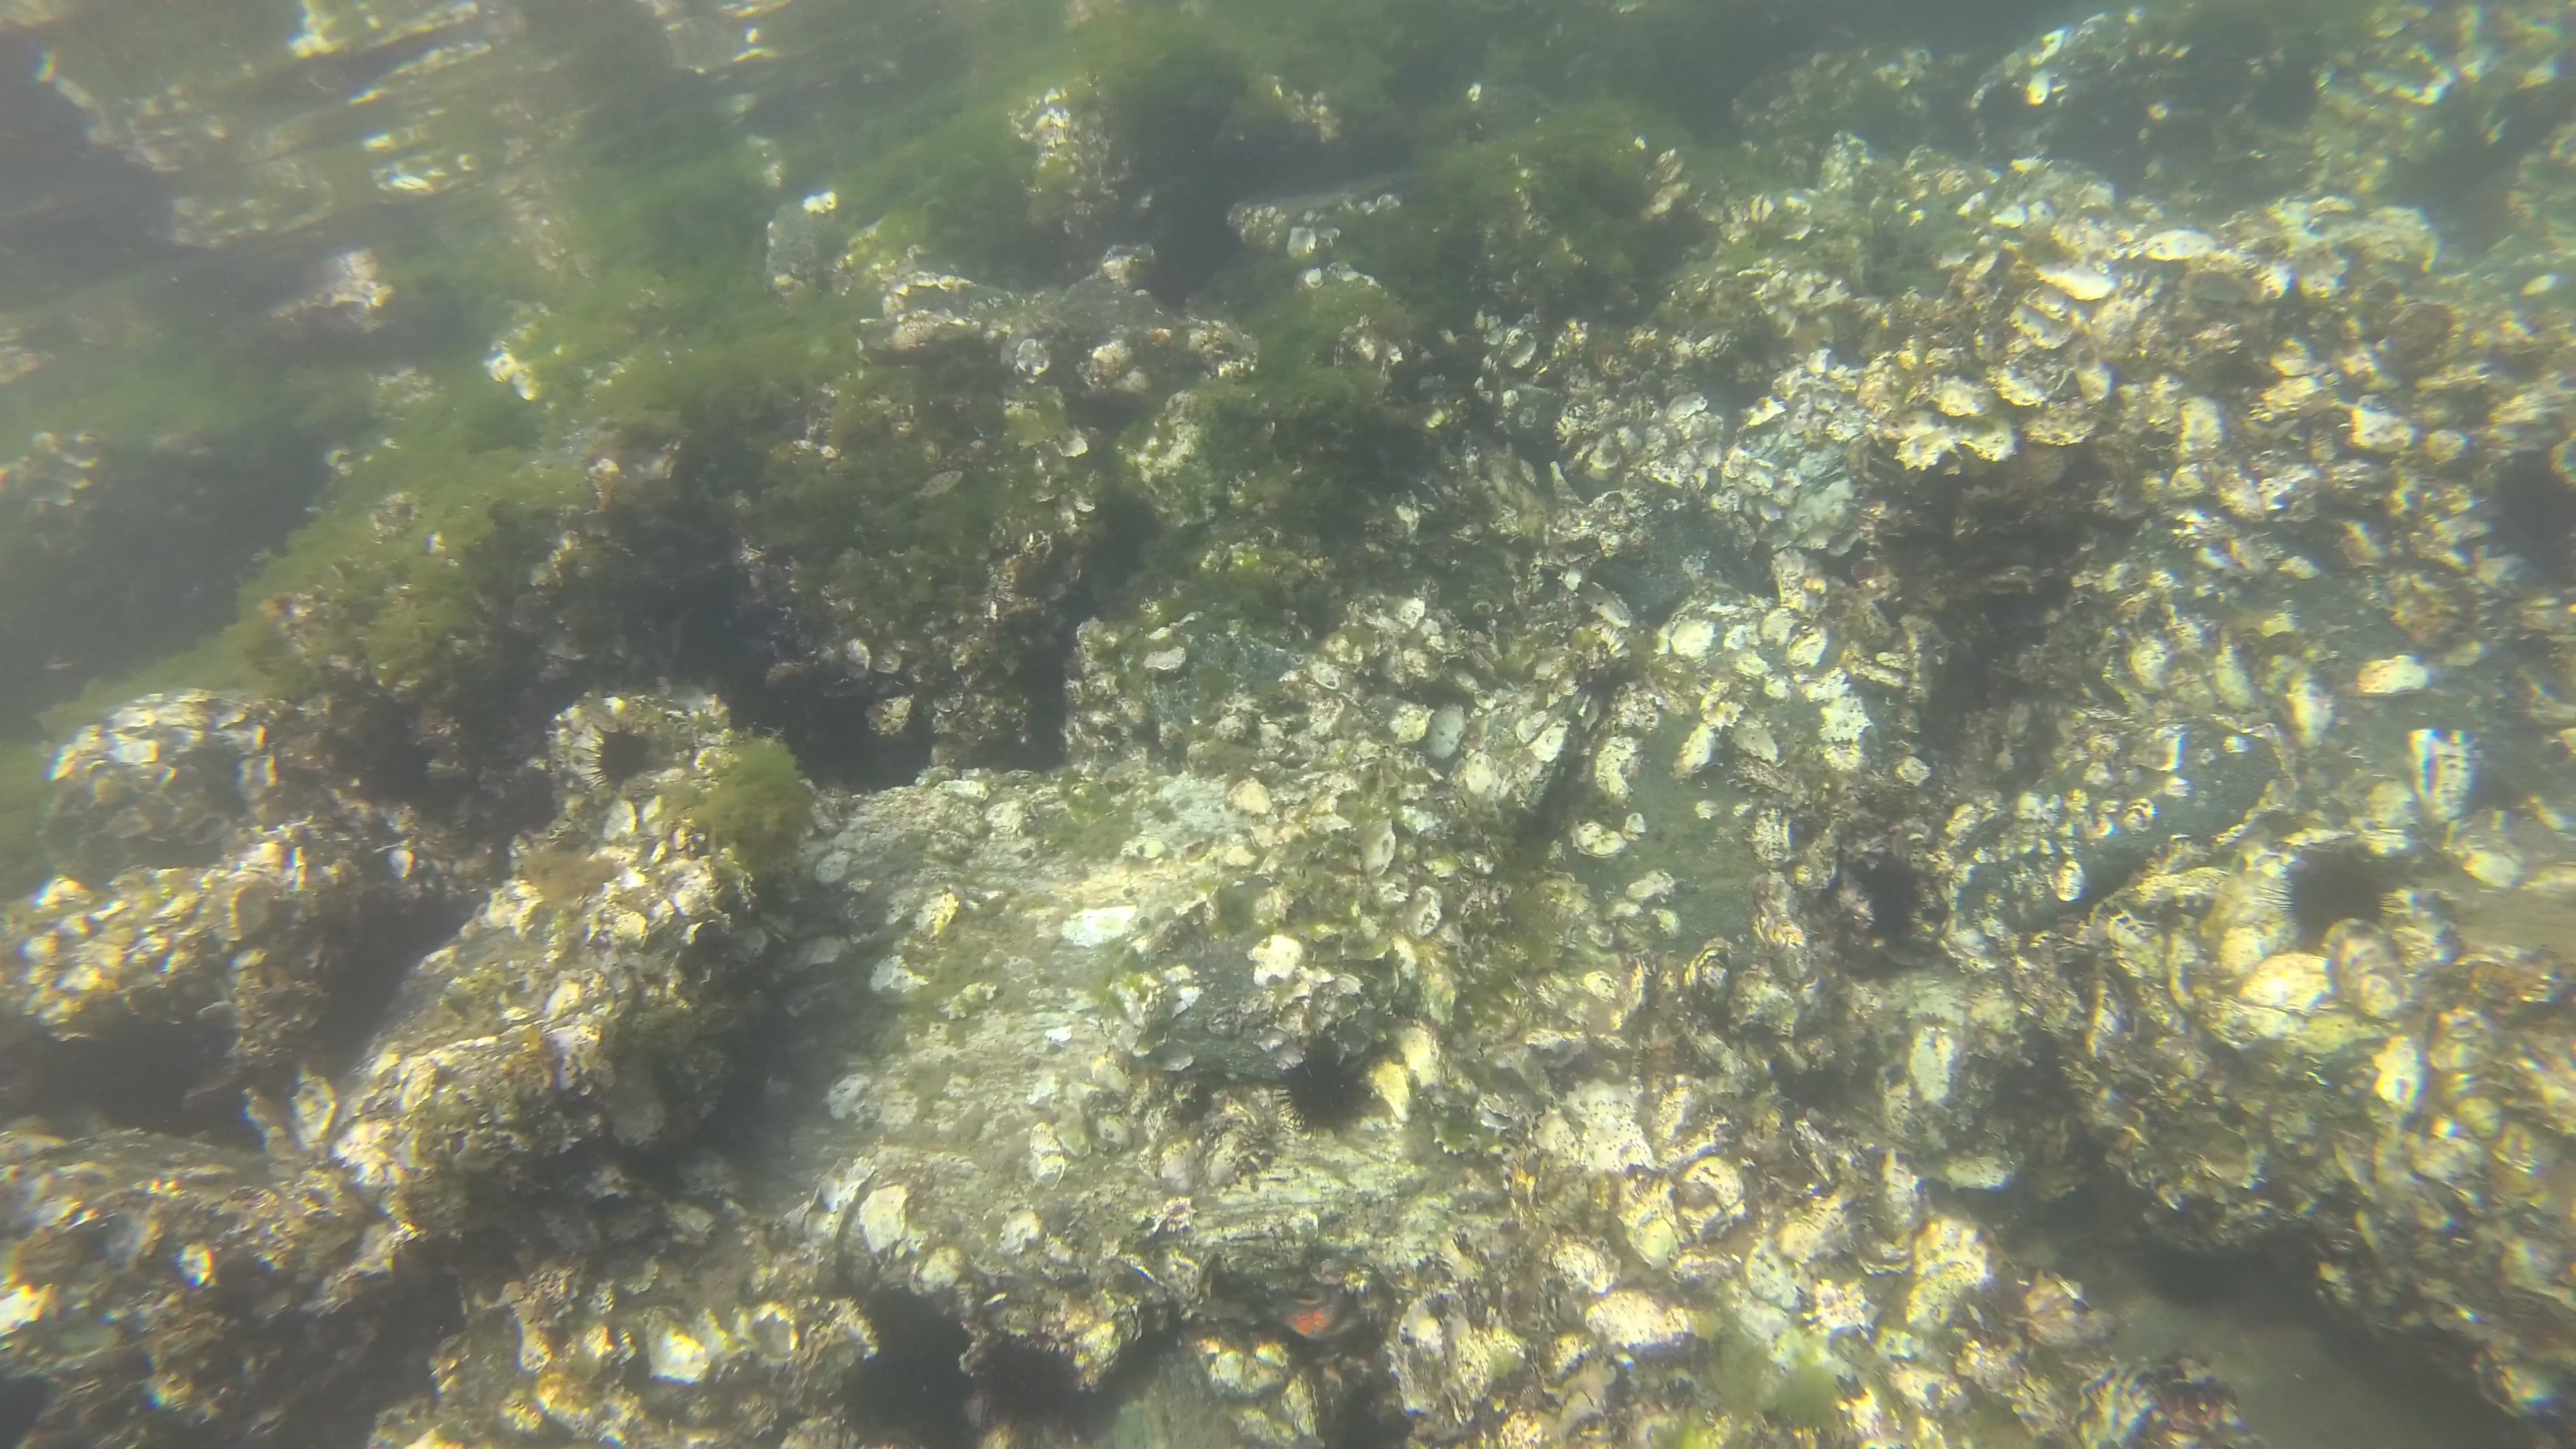echinus: (2273, 849, 2406, 941), (978, 1336, 1074, 1433), (1277, 1051, 1376, 1138), (2496, 458, 2576, 534), (584, 727, 655, 789), (2252, 69, 2321, 129)
starfish: (1260, 1293, 1361, 1348)
